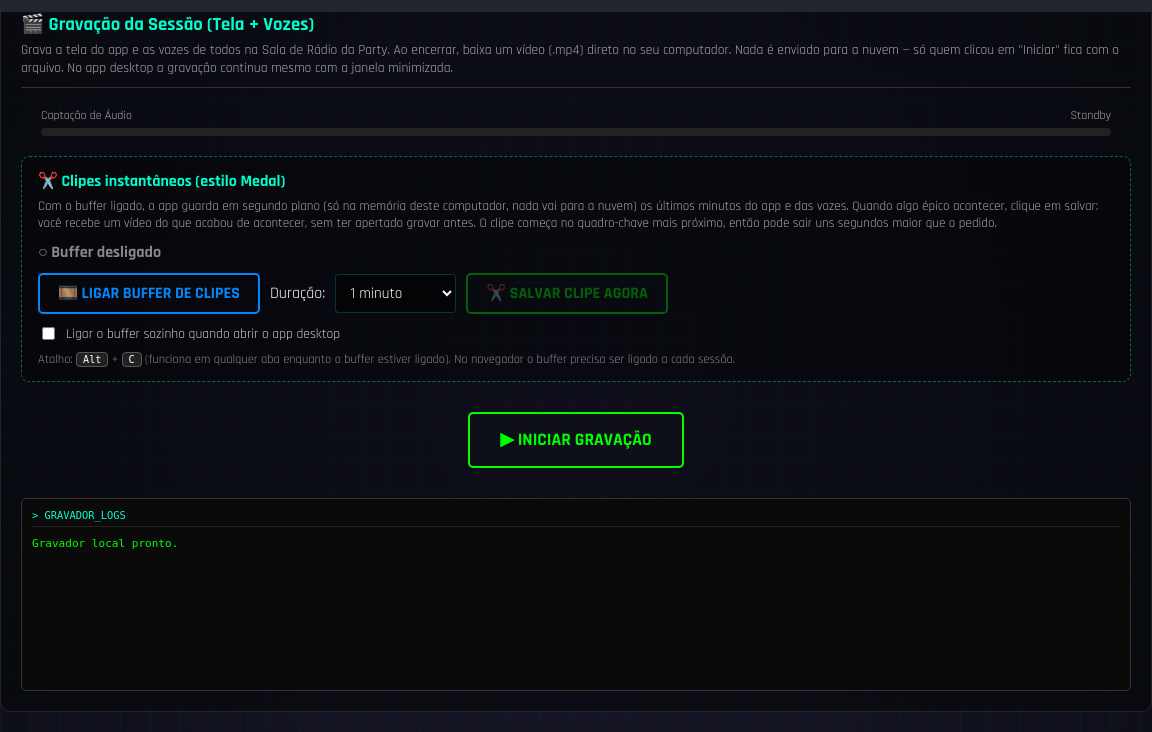
Test: GravadorPanel: Electron com captura de tela recusada › menciona o app desktop desatualizado
(page scrolled)
Step 1. Click the button "▶ INICIAR GRAVAÇÃO" → (576, 440), box [468,412,684,468]
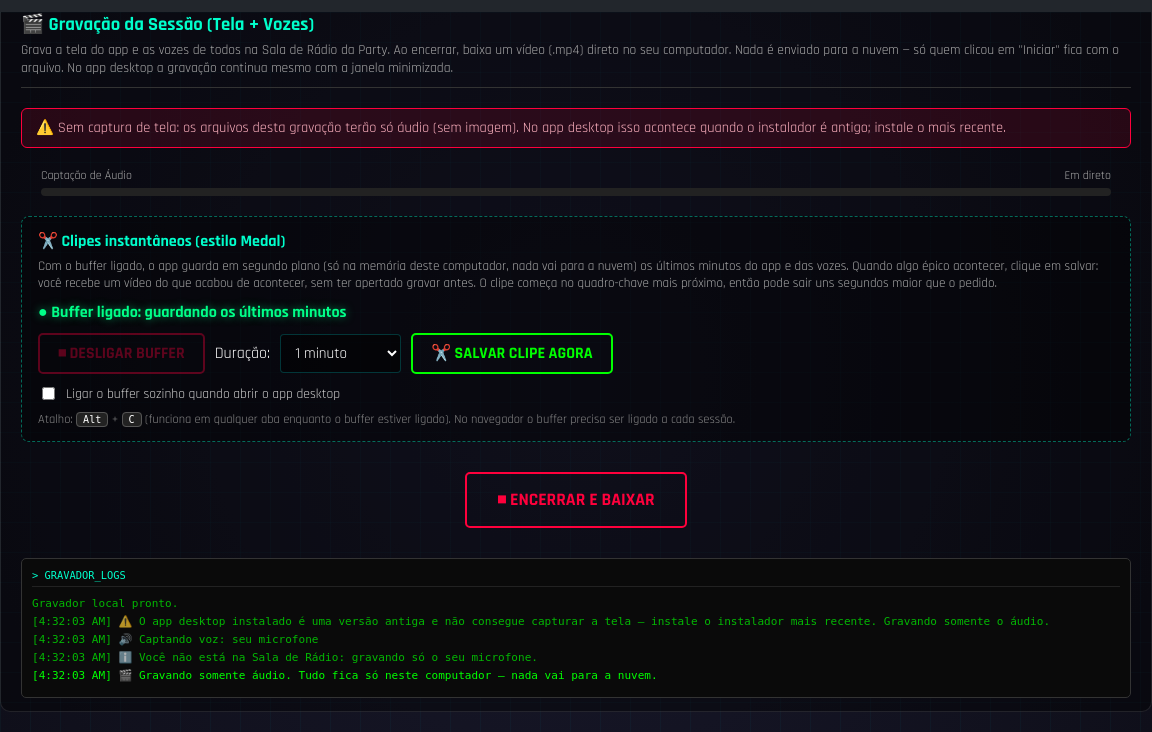
Now the text "versão antiga" is shown, box [32,615,1050,628]
